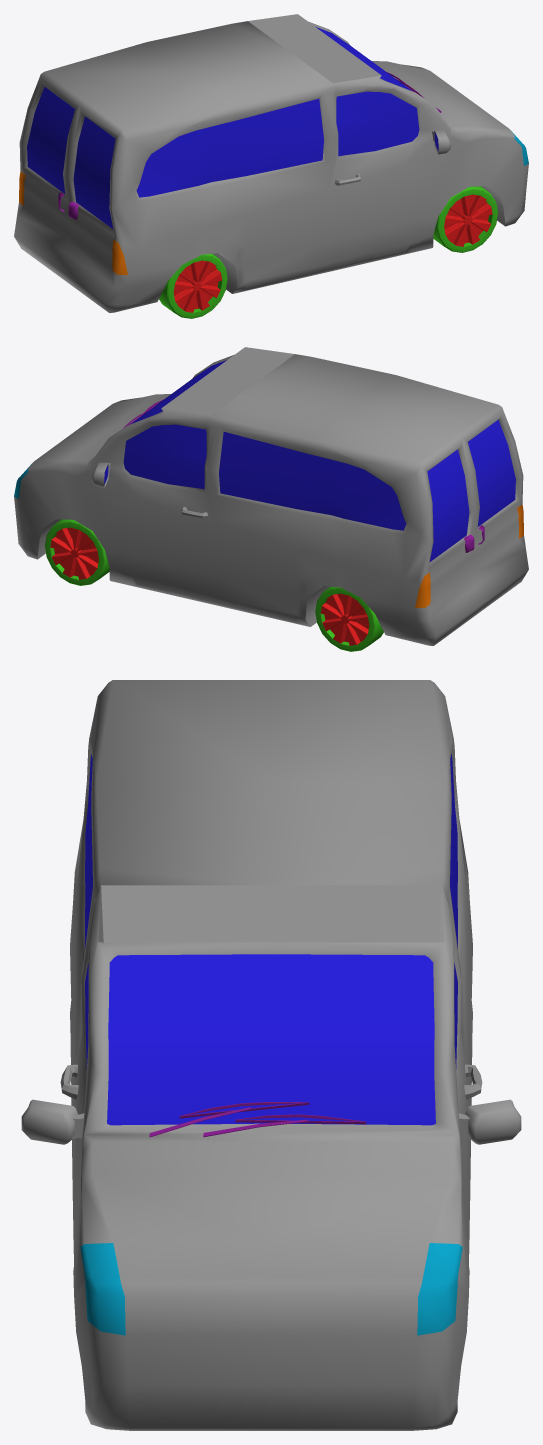
The model's file is Auto3.FBX.
3 renders of one model, top to bottom at view 1: azimuth 30°, elevation 25°; view 2: azimuth 150°, elevation 25°; view 3: azimuth 270°, elevation 25°, orthographic. The views are drawn at different scales.
Visible parts, largest first — view 1: Plane009; view 2: Plane009; view 3: Plane009.
Part boxes in pixels (x1=…): Plane009: x1=14, y1=14, x2=528, y2=318; Plane009: x1=14, y1=347, x2=528, y2=651; Plane009: x1=21, y1=680, x2=521, y2=1430.
Bounding box in the file's own units: 185 × 83.37 × 93.27.
